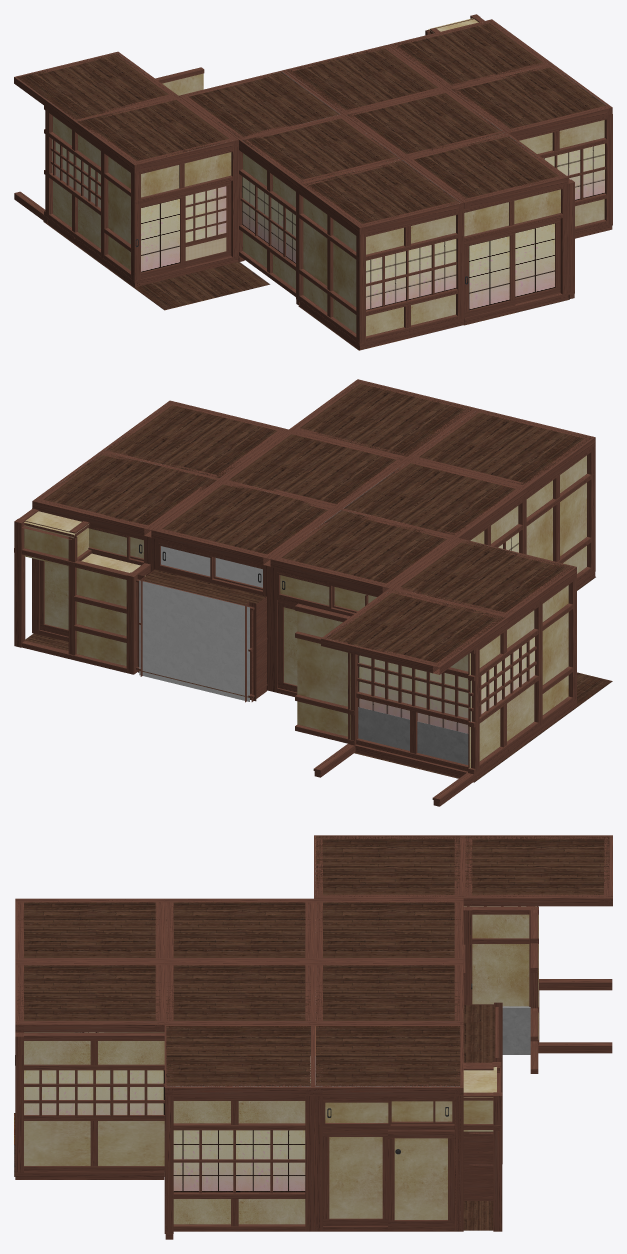
Rendered from japanese_machiya.glb.
The picture shows the model from 3 angles, top to bottom: view 1: azimuth 30°, elevation 25°; view 2: azimuth 150°, elevation 25°; view 3: azimuth 270°, elevation 25°; orthographic projection. The views are drawn at different scales.
Parts seen in each view (by area): view 1: SM_Japanese_Machiya; view 2: SM_Japanese_Machiya; view 3: SM_Japanese_Machiya.
Boxes of the visible parts, x1=… form: SM_Japanese_Machiya: x1=14, y1=14, x2=612, y2=350; SM_Japanese_Machiya: x1=14, y1=379, x2=612, y2=806; SM_Japanese_Machiya: x1=14, y1=835, x2=612, y2=1239.
Bounding box in the file's own units: 0.0407 × 0.0112 × 0.0401.
7 materials, 5 textured.
